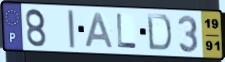3: (176, 14, 199, 55)
8: (24, 8, 48, 48)
A: (83, 11, 115, 50)
D: (146, 12, 174, 53)
I: (66, 9, 77, 50)
L: (115, 12, 138, 50)
